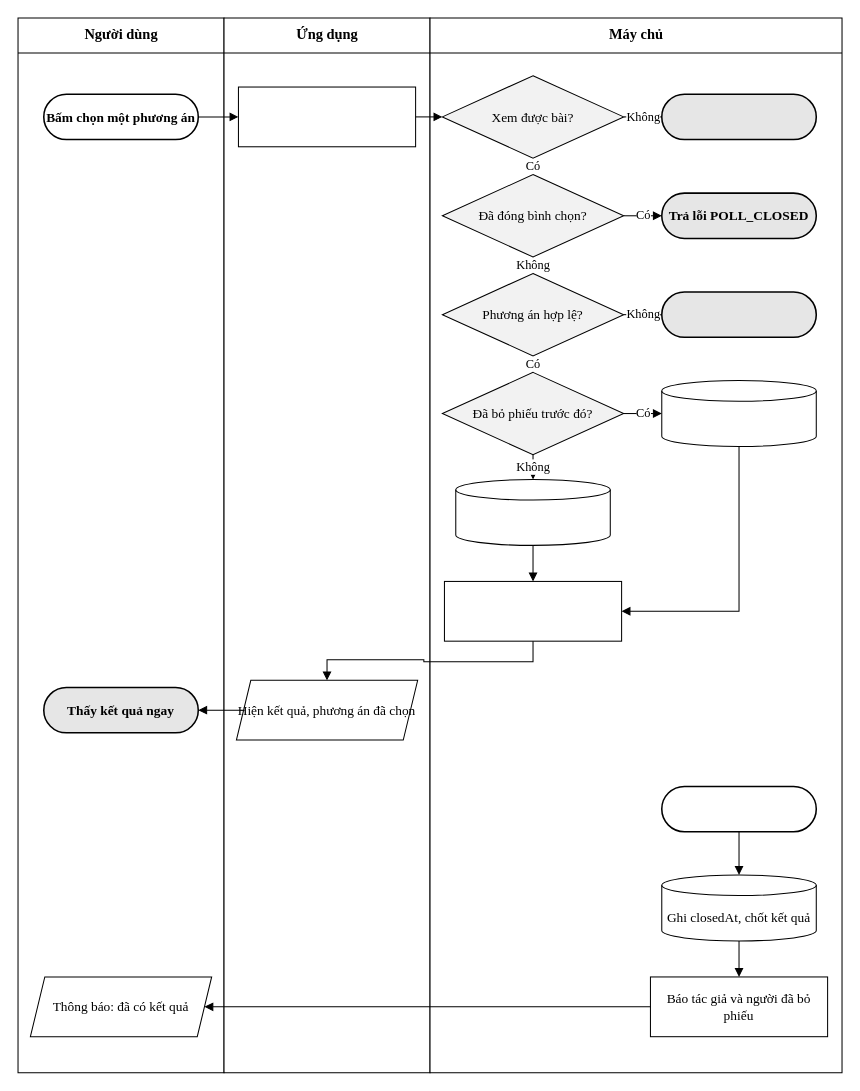
Some shapes in this 860 by 1091 pixel diagram are drawn without their labels. Here are the shapes that lost their labels. From the top down, the centre of each, then its label:
At point (326, 116): "Gửi POST /polls/:id/votes".
At point (739, 116): "Trả lỗi 404".
At point (739, 314): "Trả lỗi 400".
At point (738, 413): "Đổi phương án trong PollVote".
At point (532, 511): "Tạo PollVote".
At point (532, 610): "Đếm phiếu, tính phần trăm".
At point (739, 808): "Đến giờ đóng (quét mỗi phút)".
